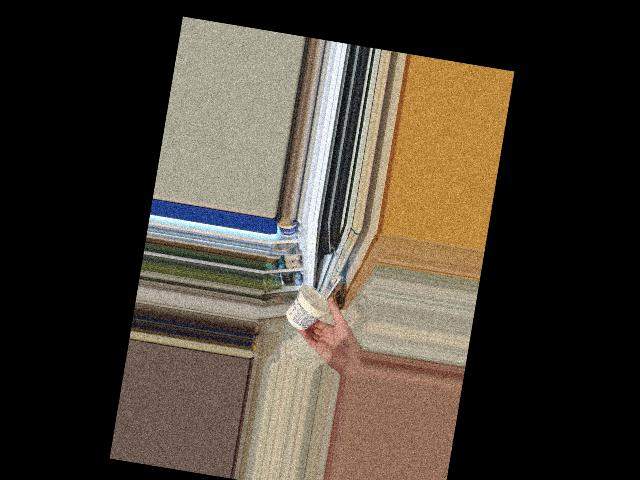cotage: (286, 283, 330, 329)
